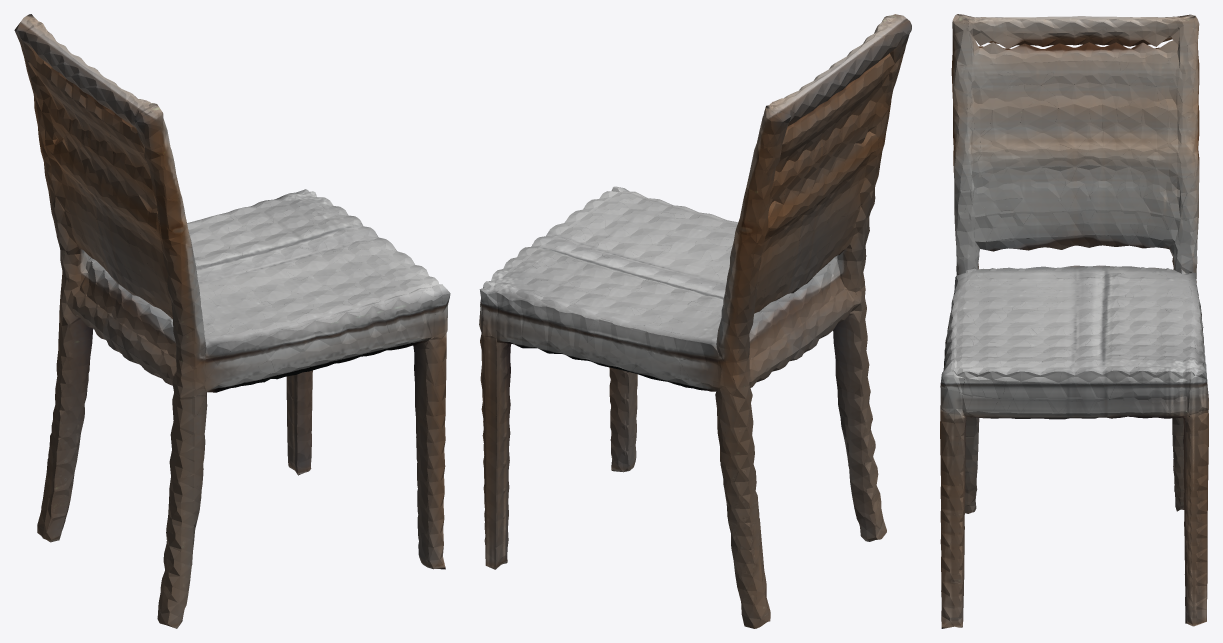
The model's file is elem_115_131_206_213_6_1.obj.
The picture shows the model from 3 angles, left to right: view 1: azimuth 30°, elevation 25°; view 2: azimuth 150°, elevation 25°; view 3: azimuth 270°, elevation 25°; orthographic projection. The views are drawn at different scales.
Bounding box in the file's own units: 0.4348 × 0.7118 × 0.3562.
Materials: 1 (1 with a texture image).
